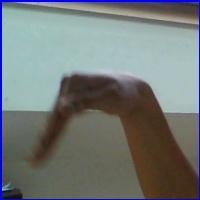A: (28, 65, 160, 173)
